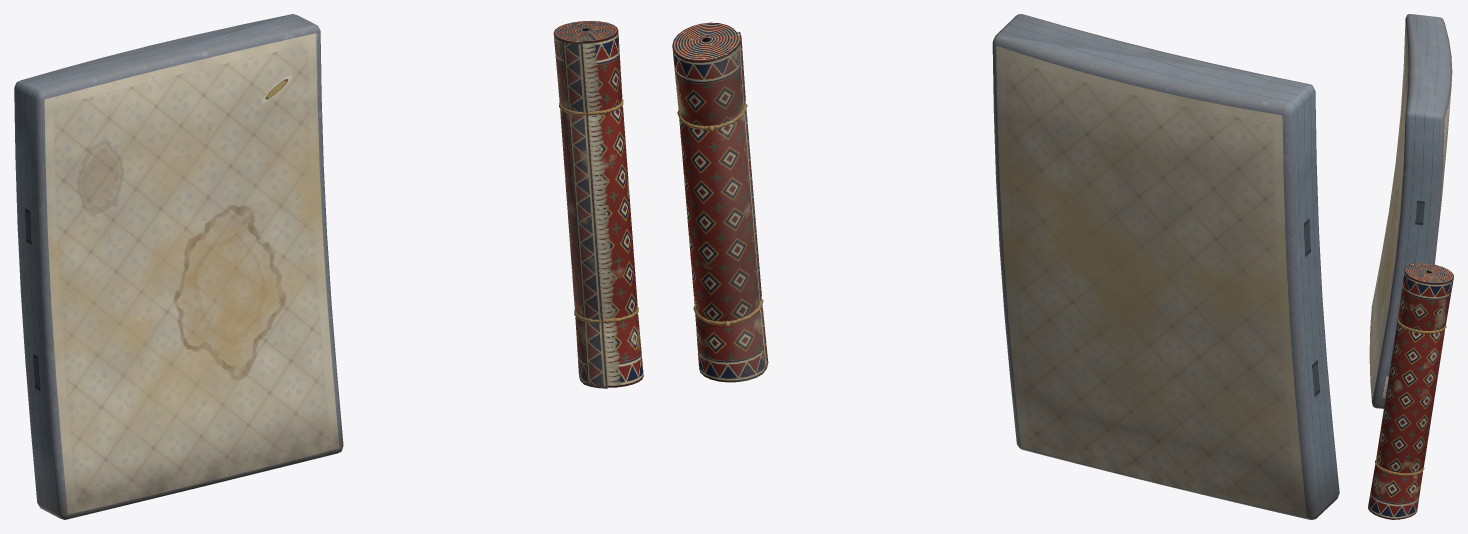
Rendered from Stuff.fbx.
The picture shows the model from 3 angles, left to right: view 1: azimuth 30°, elevation 25°; view 2: azimuth 150°, elevation 25°; view 3: azimuth 270°, elevation 25°; orthographic projection. The views are drawn at different scales.
Parts seen in each view (by area): view 1: Mattress, Carpet; view 2: Mattress, Carpet; view 3: Mattress, Carpet.
Boxes of the visible parts, x1,y1,x2,y2 form: Mattress: [14, 14, 343, 519]; Carpet: [553, 21, 643, 388]; Mattress: [992, 14, 1339, 519]; Carpet: [672, 22, 768, 382]; Mattress: [1369, 14, 1452, 408]; Carpet: [1368, 263, 1453, 519].
Size of the model in its own units: 11.23 by 7.5 by 1.95.
Materials: 1 (1 with a texture image).
